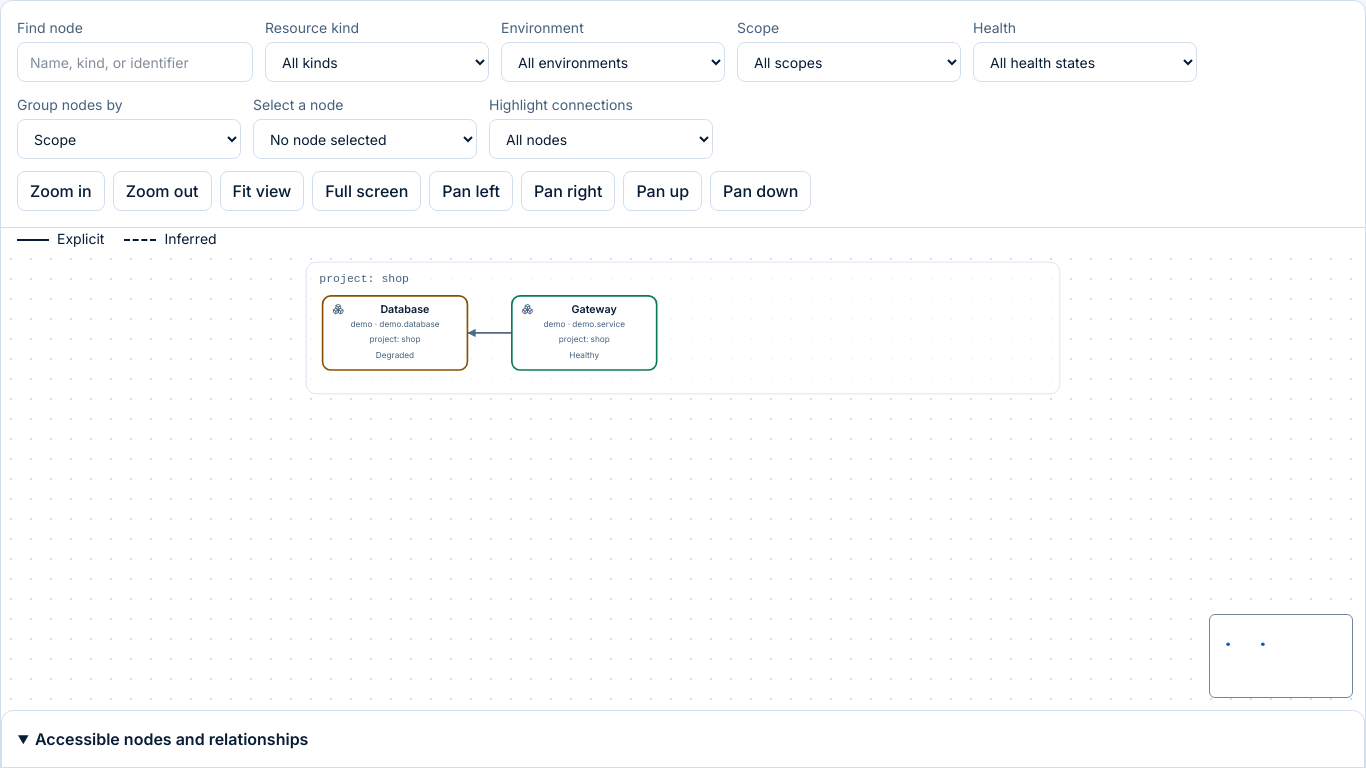
Test: topology graph › offers keyboard controls, node links, and search filtering
Check: the number of icons named "Interactive infrastructure topology" is 1, box [1,249,1365,710]
Check: the button "Zoom in" is shown, box [17,171,105,211]
Type "missing" into the search field labelled "Find node".
click(135, 62); type("missing")  # box [17,42,253,82]
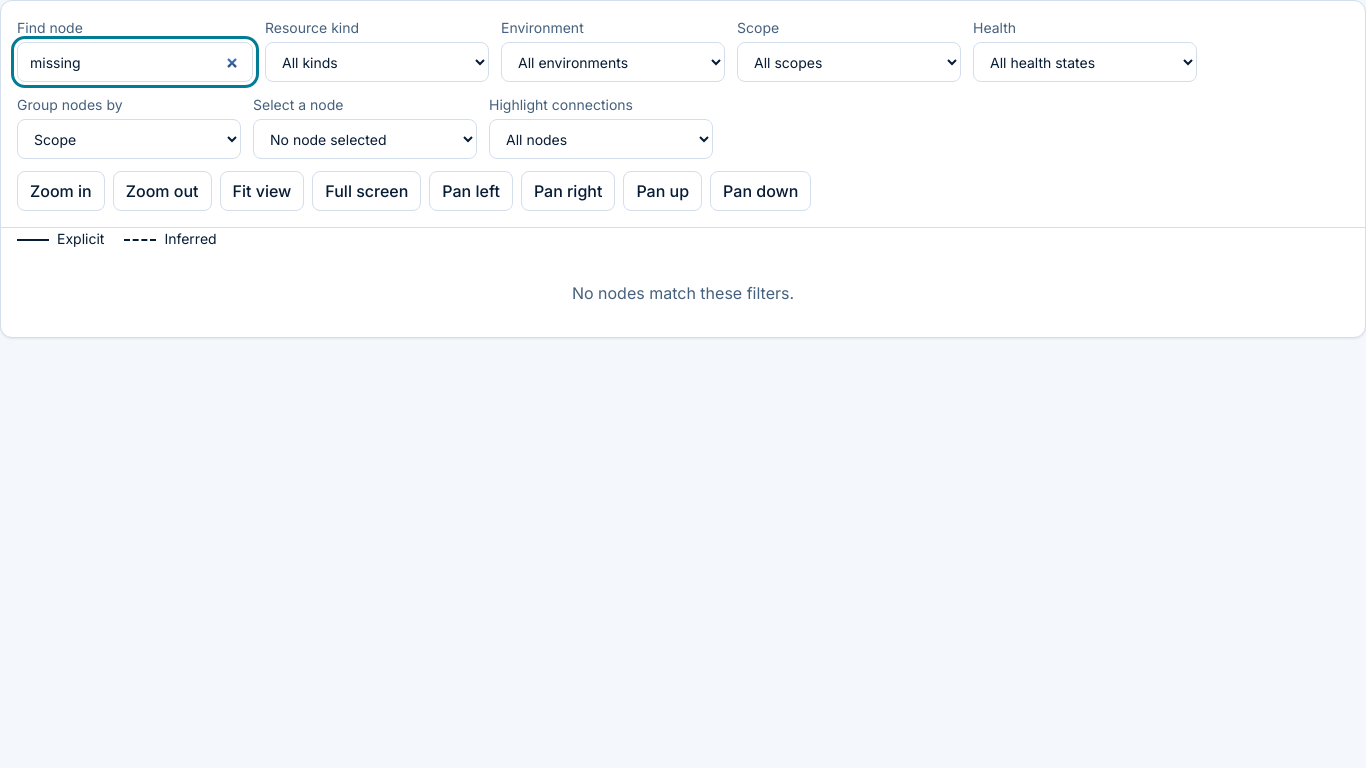
Check: the message reads "No nodes match these filters.", box [572,283,794,303]
